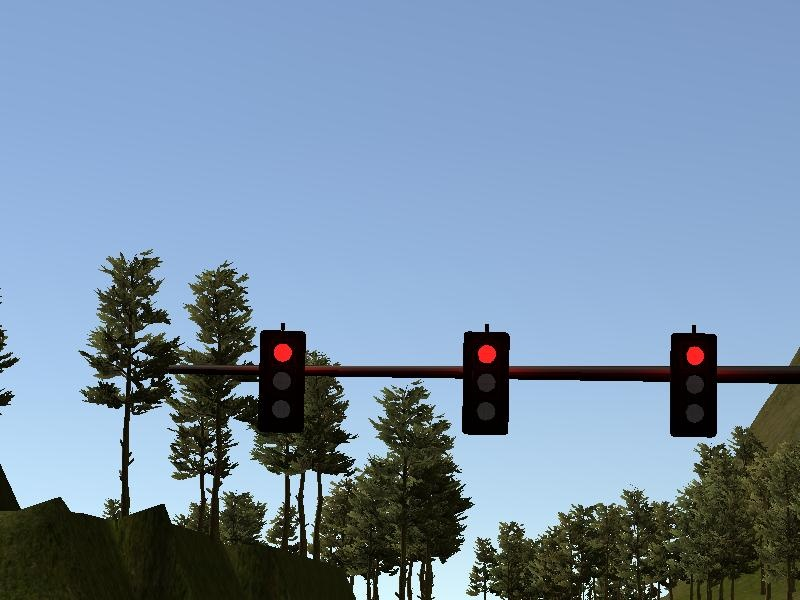Red: (667, 330, 720, 439), (461, 328, 511, 437), (258, 328, 305, 434)
